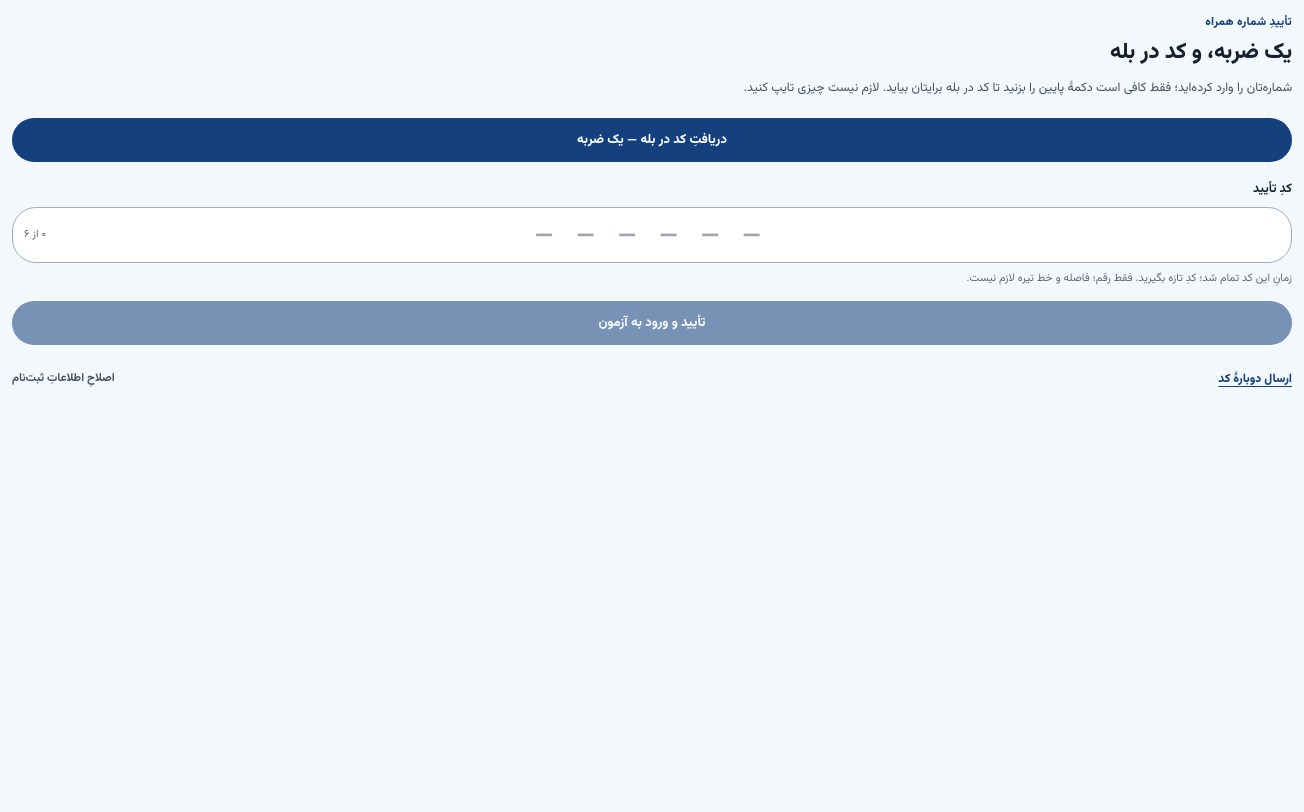
Test: OtpStep › خطای ۴۲۹ ⇒ دکمهٔ ارسال دوباره تا پایانِ فاصله زمانی خاموش می‌ماند
Click the button "ارسال دوبارهٔ کد": (1255, 379) [1218, 361, 1292, 397]
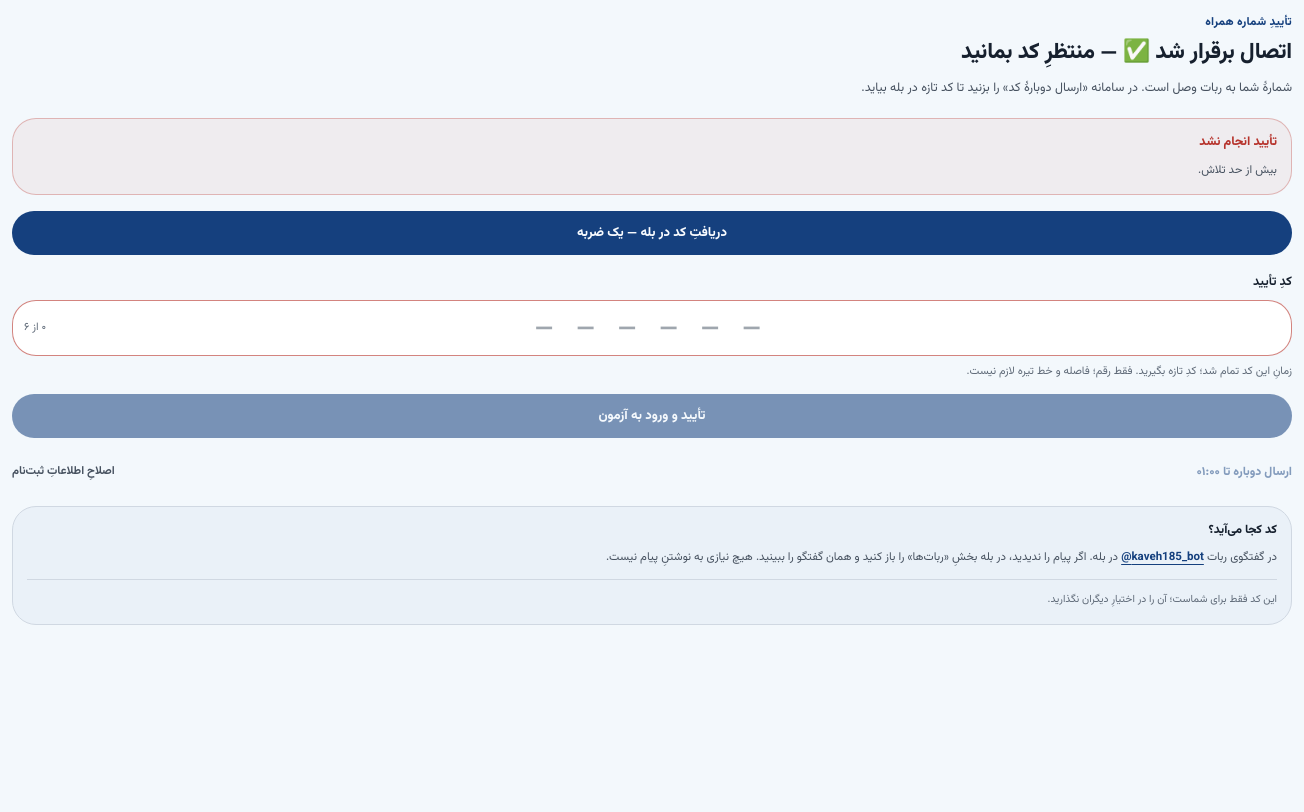
Result: the text "بیش از حد تلاش." is shown at [1198, 161, 1277, 179]
Result: the button "ارسال دوباره تا ۰۱:۰۰" is disabled at [1196, 454, 1292, 490]
